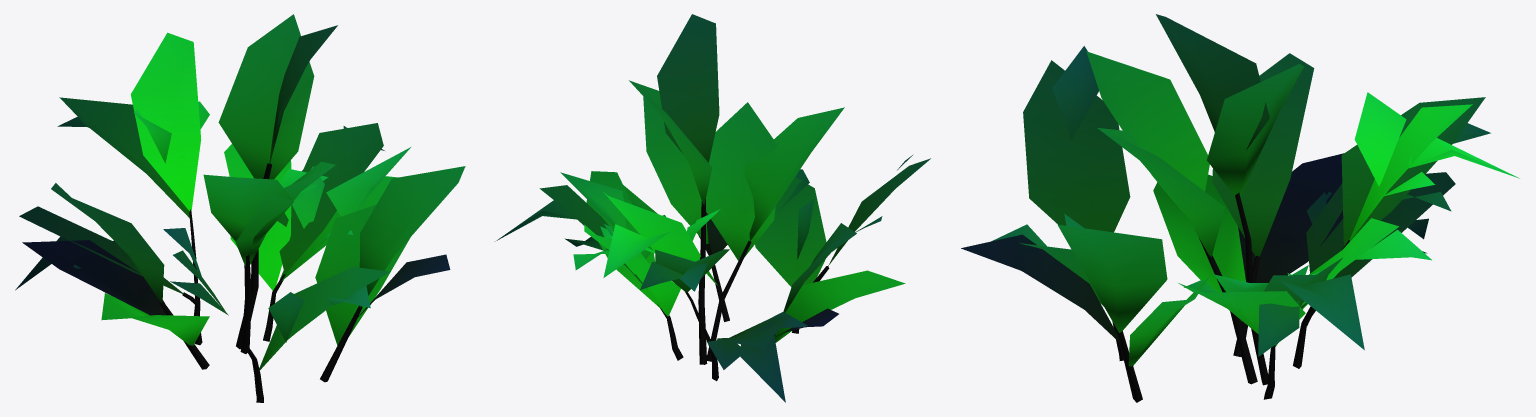
The model's file is SM_EuropeanBeech_XS_03.fbx.
3 views of the same model, side by side, from view 1: azimuth 30°, elevation 25°; view 2: azimuth 150°, elevation 25°; view 3: azimuth 270°, elevation 25° (orthographic). The views are drawn at different scales.
Parts seen in each view (by area): view 1: SM_EuropeanBeech_XS_03_LOD0; view 2: SM_EuropeanBeech_XS_03_LOD0; view 3: SM_EuropeanBeech_XS_03_LOD0.
Boxes of the visible parts, <box> form: SM_EuropeanBeech_XS_03_LOD0: <box>15,14,465,402</box>; SM_EuropeanBeech_XS_03_LOD0: <box>495,14,930,402</box>; SM_EuropeanBeech_XS_03_LOD0: <box>961,14,1519,402</box>.
Bounding box in the file's own units: 57.56 × 64.98 × 51.07.
